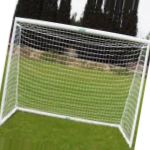goals: (1, 15, 150, 148)
